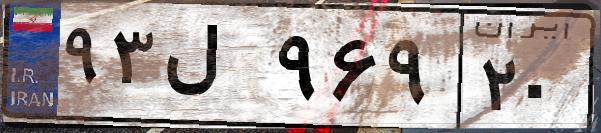0: (525, 38, 570, 115)
2: (475, 38, 525, 113)
3: (110, 28, 158, 98)
6: (330, 28, 385, 110)
9: (270, 28, 330, 110), (385, 28, 445, 110), (57, 26, 110, 100)
ل: (158, 20, 270, 120)
